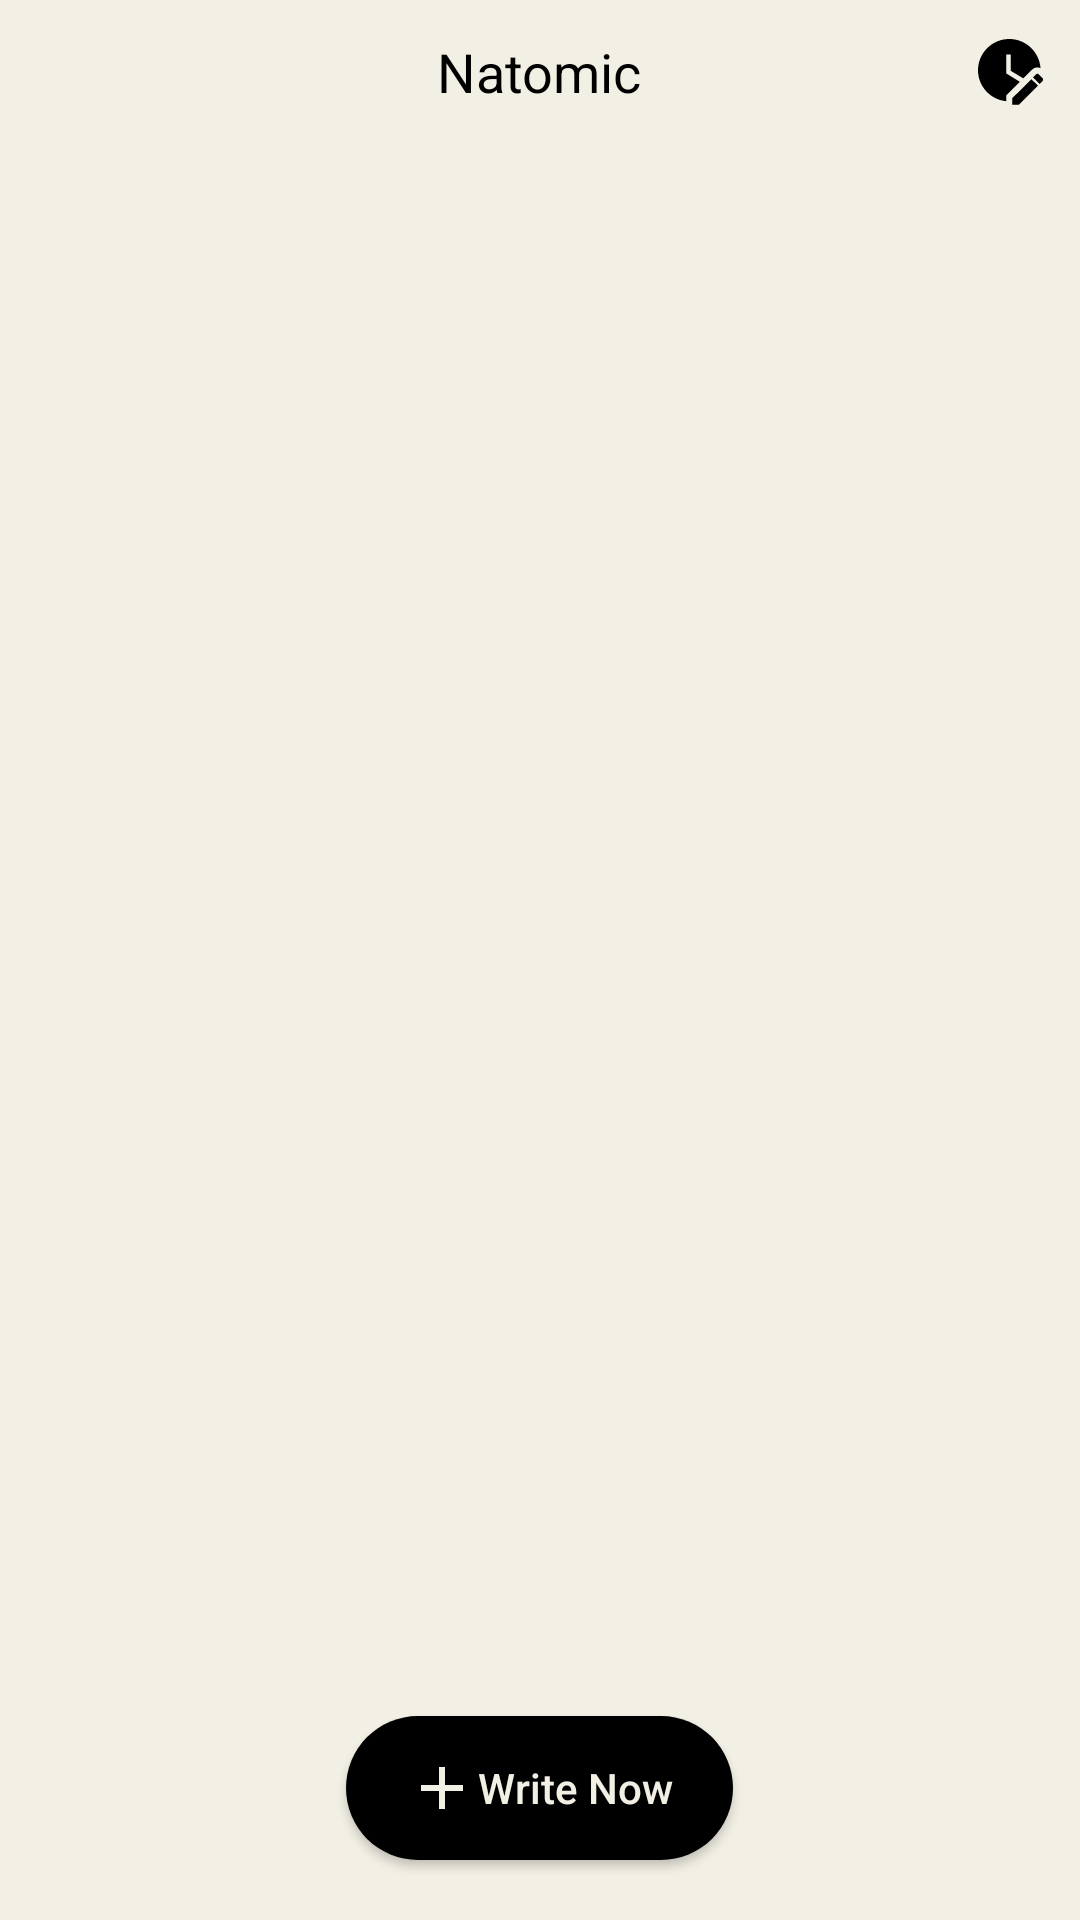

Icon bounding boxes for this 1080 x 1920 phone screenshot, format box=[x1, y1, x2, y2]:
time: box=[978, 39, 1043, 105]
